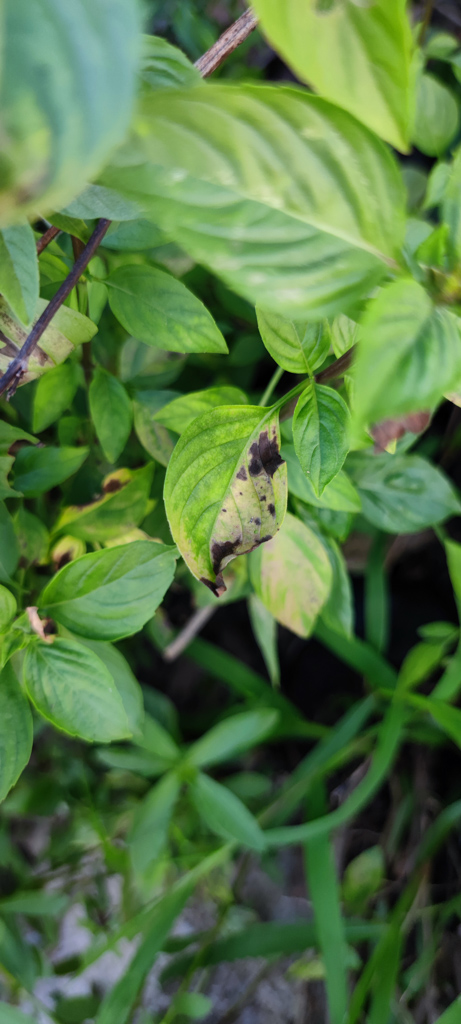Pepper yellow leaf: (203, 424, 300, 602), (250, 511, 344, 639)
